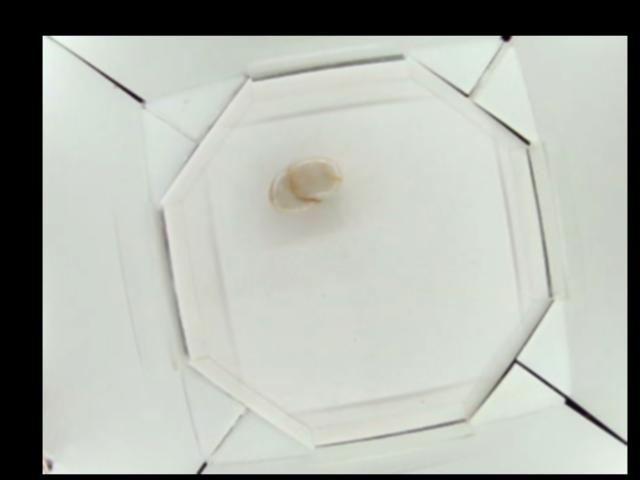Pebble: (265, 152, 339, 218)
